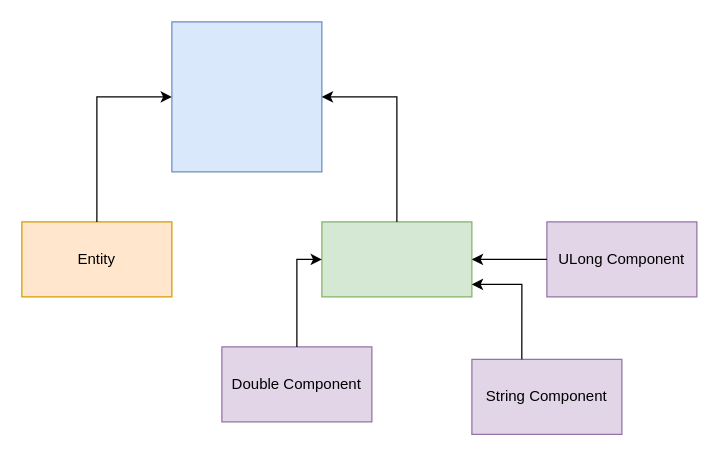
Image size: 719x456. Some labels were removed from this diagram. The centre of each missing label's shape, as x and y in pixels:
"Component Manager" belongs at (396,259).
"Entity Manager" belongs at (246,96).
